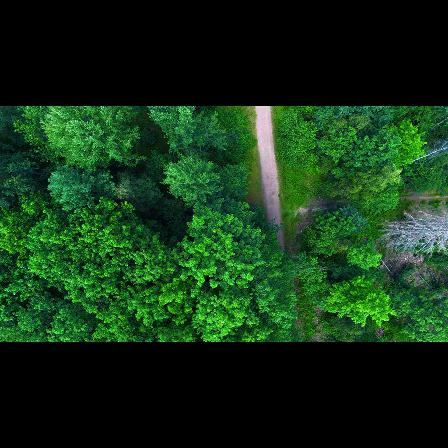Dead: (375, 211, 448, 257), (399, 137, 448, 170)
